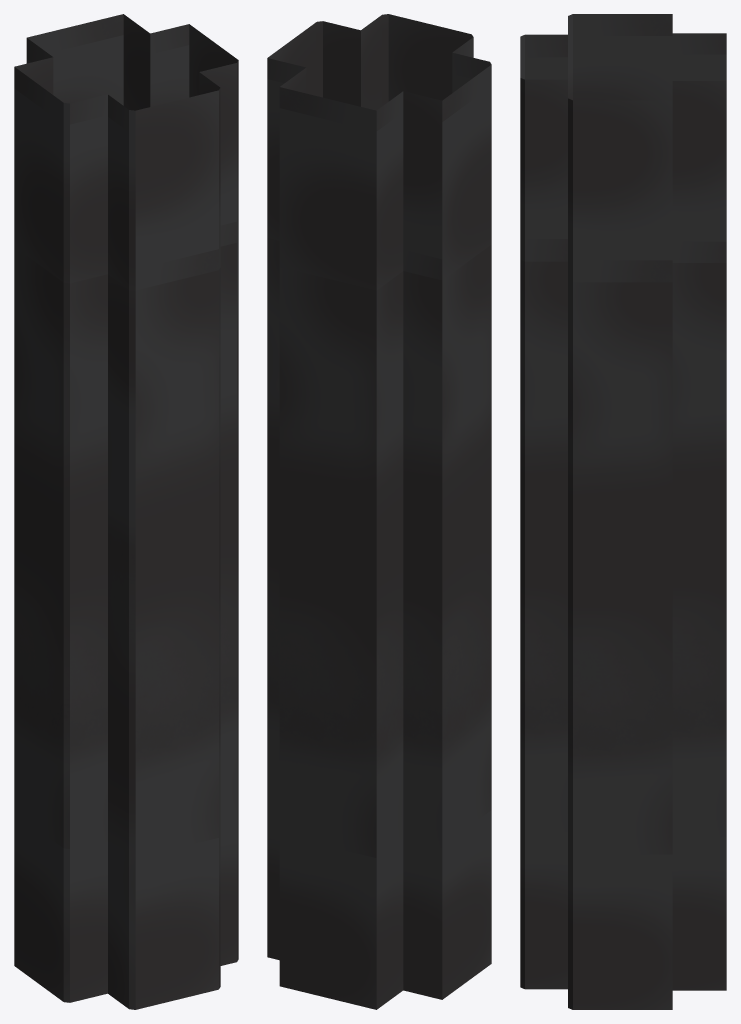
The model's file is SM_BIG_Pillar.fbx.
3 views of the same model, side by side, from view 1: azimuth 30°, elevation 25°; view 2: azimuth 150°, elevation 25°; view 3: azimuth 270°, elevation 25° (orthographic).
Visible parts, largest first — view 1: BIG_Pillar; view 2: BIG_Pillar; view 3: BIG_Pillar.
Part boxes in pixels (x1,y1,x2,y2): BIG_Pillar: (14, 14, 238, 1009); BIG_Pillar: (267, 14, 491, 1009); BIG_Pillar: (520, 14, 726, 1009).
Bounding box in the file's own units: 95.71 × 470 × 96.69.
